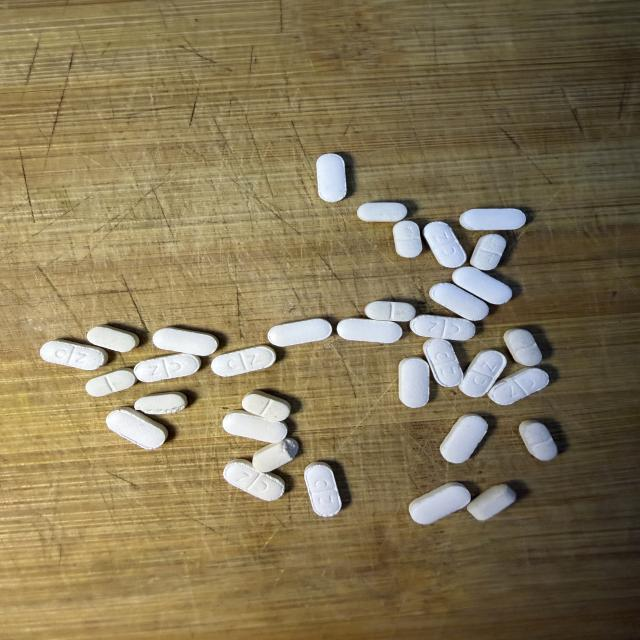pill: (106, 407, 168, 449), (409, 482, 470, 524), (223, 459, 284, 501), (440, 414, 487, 463), (488, 368, 548, 405), (452, 267, 512, 304), (459, 350, 506, 397), (430, 283, 489, 320), (223, 410, 287, 442), (304, 462, 341, 517), (40, 340, 107, 370), (424, 222, 466, 268), (212, 346, 276, 376), (153, 327, 218, 356), (134, 354, 200, 382), (424, 339, 462, 387), (268, 319, 332, 346), (467, 485, 516, 520), (410, 315, 475, 340), (337, 319, 402, 343), (519, 420, 557, 461), (399, 357, 429, 408), (253, 438, 298, 472), (242, 391, 290, 421), (504, 329, 542, 366), (87, 325, 139, 352), (86, 368, 136, 396), (317, 154, 346, 202), (460, 209, 525, 230), (470, 234, 506, 270), (135, 392, 187, 414), (393, 221, 422, 257), (365, 301, 415, 321), (358, 203, 407, 222)
